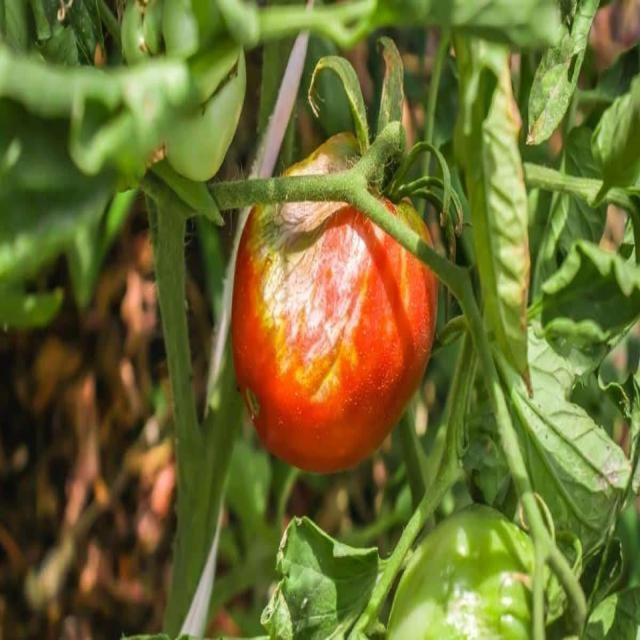Sunscald Fruit: (105, 110, 349, 325)
